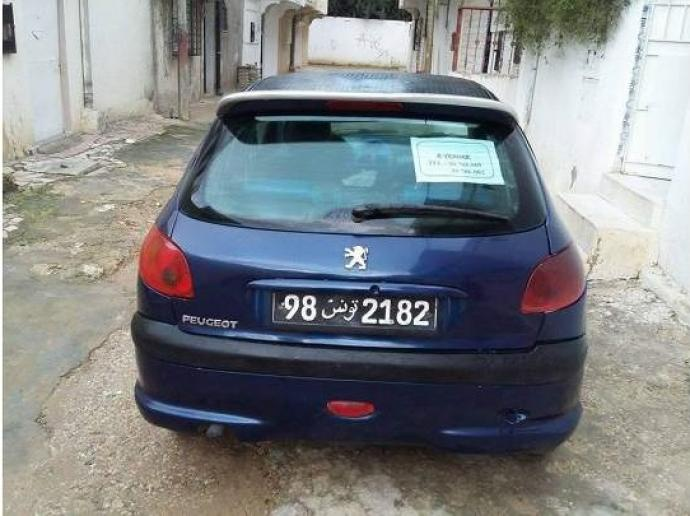LP: (270, 286, 439, 335)
